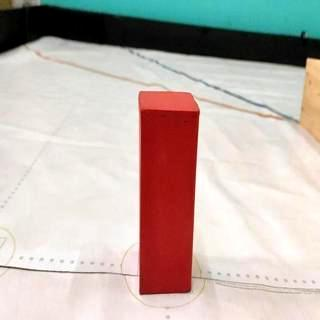redbox: (140, 90, 200, 295)
